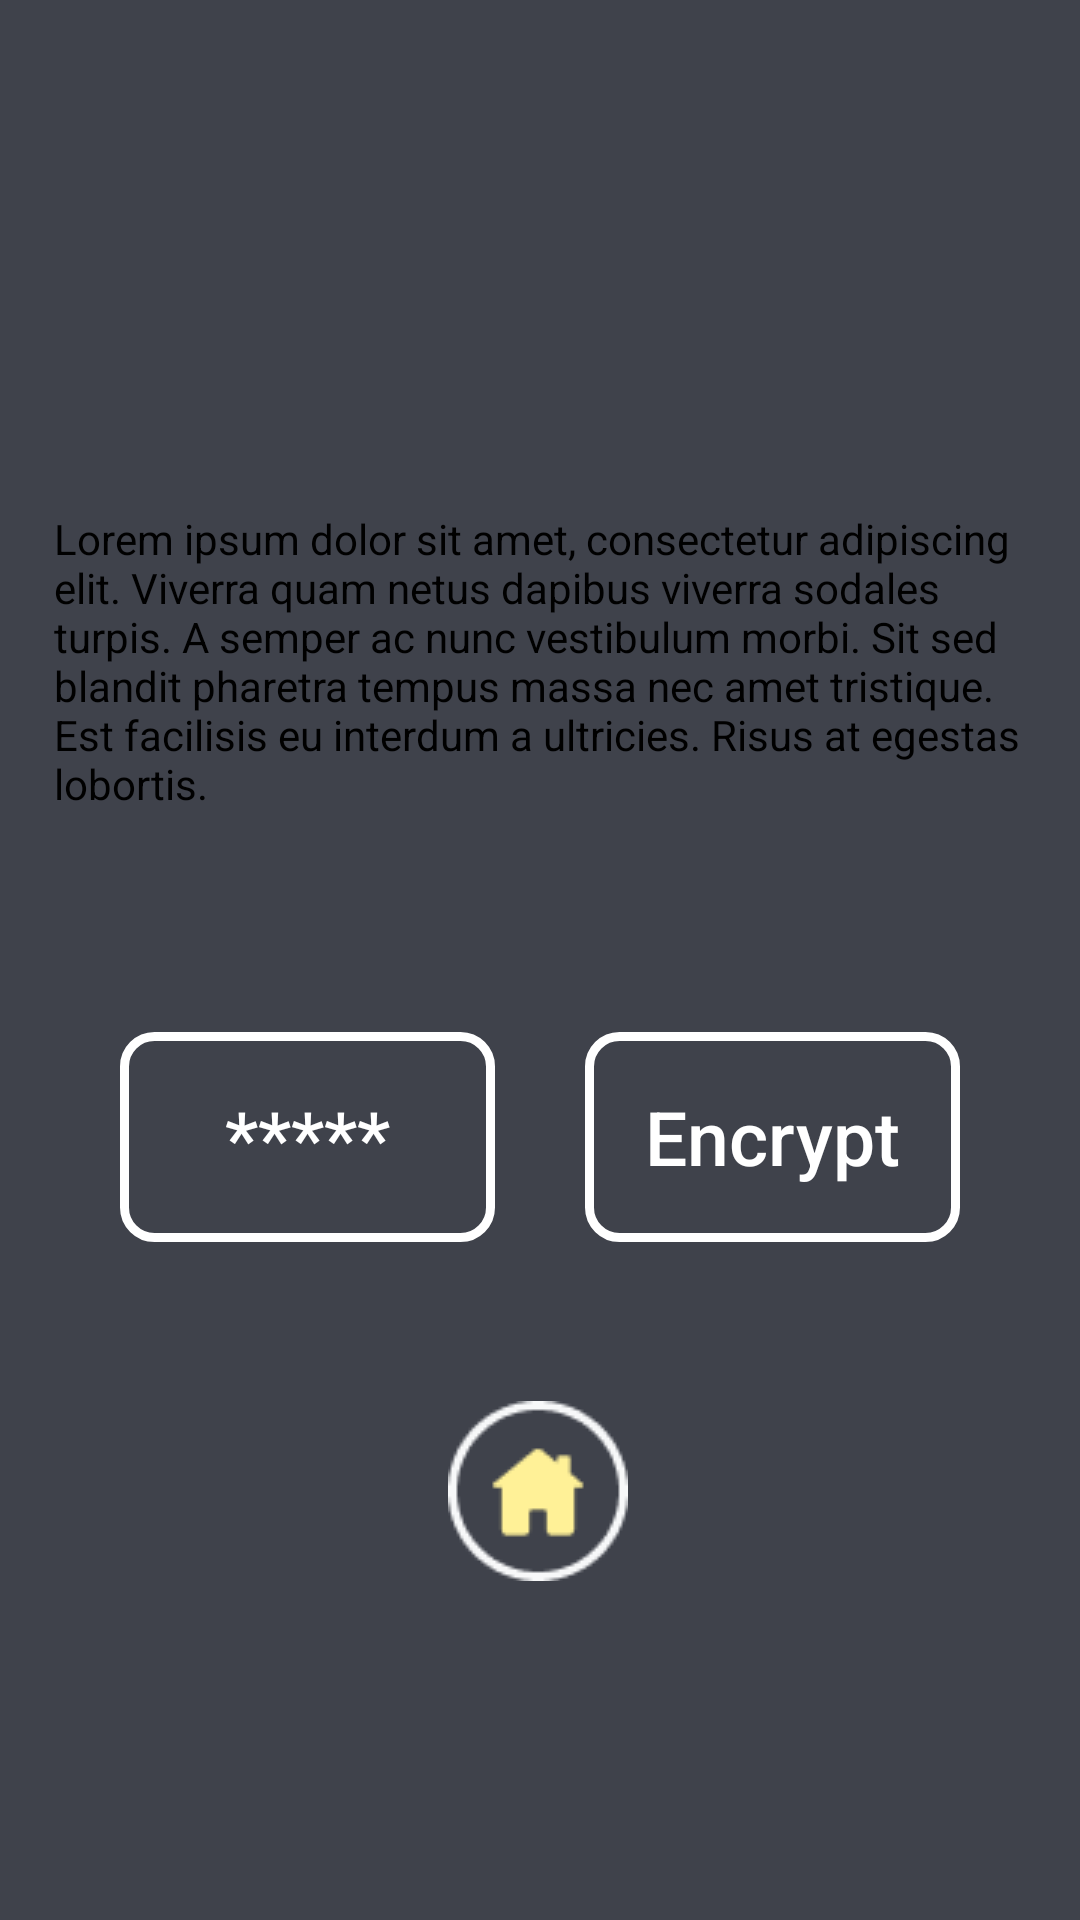

Where to tap for icons on this 1080 x 1920 app screen, as (x,y):
home: (538,1491)
